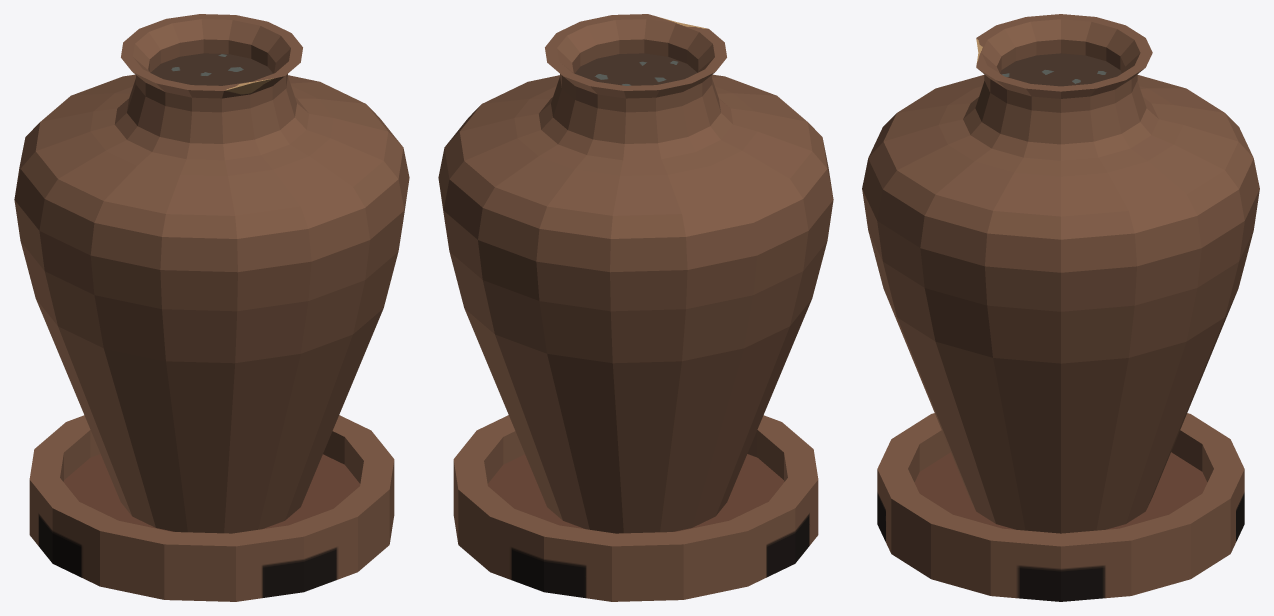
The model's file is PotFour.fbx.
3 views of the same model, side by side, from view 1: azimuth 30°, elevation 25°; view 2: azimuth 150°, elevation 25°; view 3: azimuth 270°, elevation 25° (orthographic).
Visible parts, largest first — view 1: Cube; view 2: Cube; view 3: Cube.
Boxes of the visible parts, x1,y1,x2,y2 form: Cube: [14, 14, 409, 601]; Cube: [438, 14, 833, 601]; Cube: [862, 14, 1259, 601].
Size of the model in its own units: 1.3 by 1.7 by 1.3.
